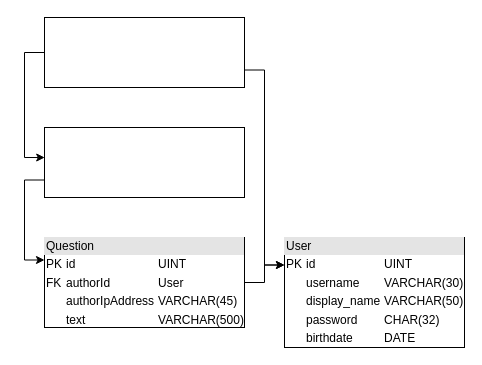
The diagram is 482 pixels wide and 365 high, and some of its shapes have lost their labels. The shapes that lost their labels are listed below. From the top down, each one's box as (x1, y1, x2, y2) in pixels, then its label:
(44, 16, 244, 88): Answer_likes PK id UINT FK answerId Answer FK like_author User
(44, 126, 244, 198): Answer PK id UINT FK questionId Question text VARCHAR(1000)
